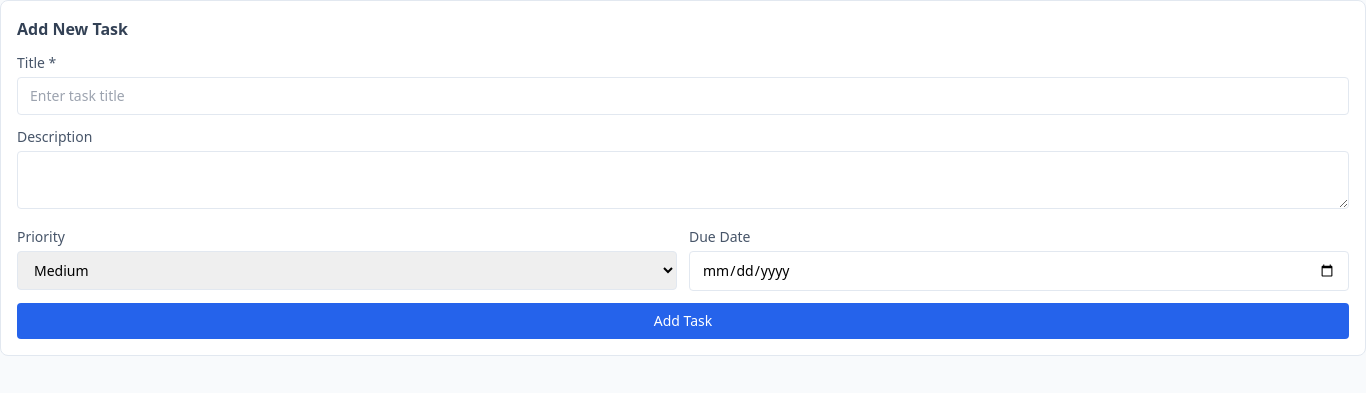
Test: AddTaskForm › shows length error for 2-character title
The image size is (1366, 393).
Type "ab" into the field labelled "Title *". click: (683, 96)
box: top-left (17, 77), bottom-right (1349, 115)
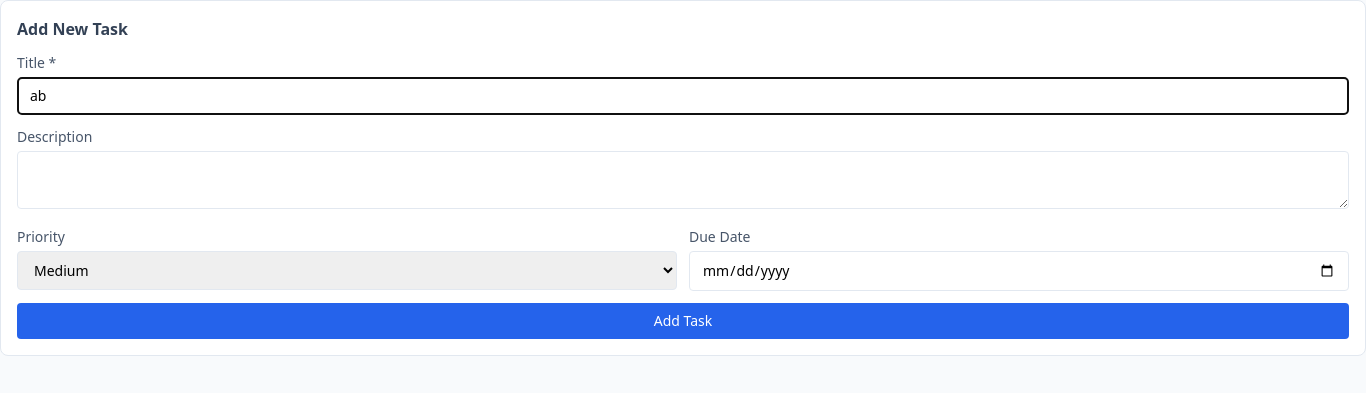
Click the button "Add Task". click: click(683, 321)
box: top-left (17, 303), bottom-right (1349, 339)
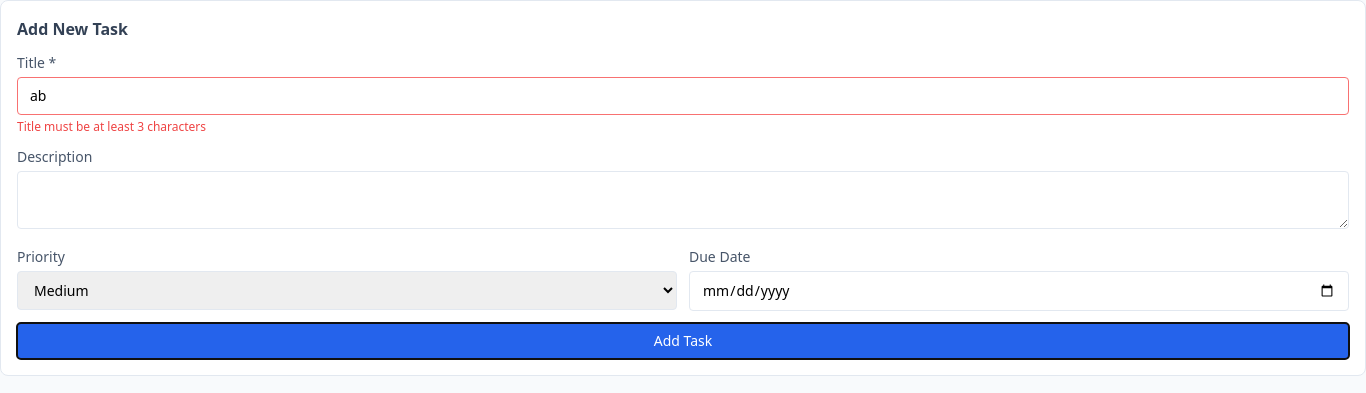
Result: the text "Title must be at least 3 characters" is shown at top-left (17, 118), bottom-right (206, 135)
